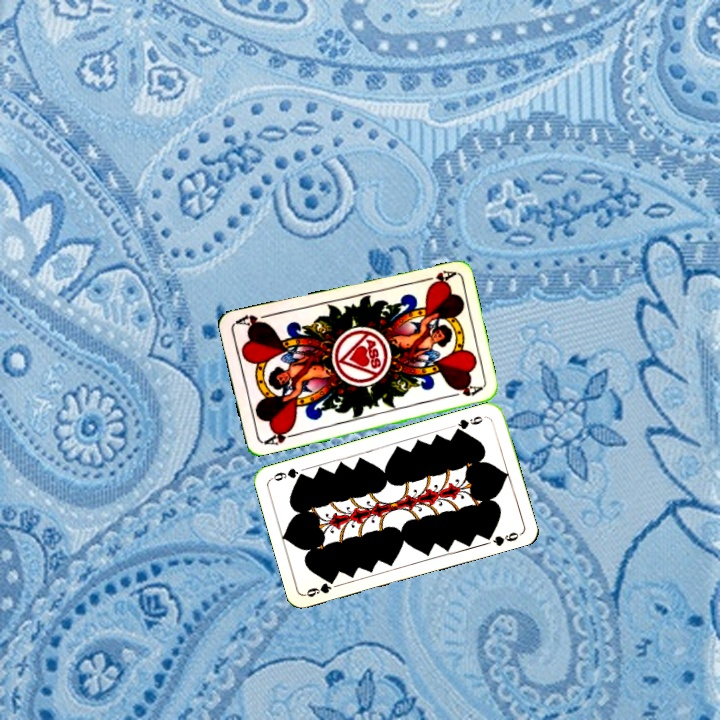G9: (301, 575, 338, 600), (451, 412, 485, 435)
HA: (259, 424, 300, 448), (416, 266, 457, 289)
